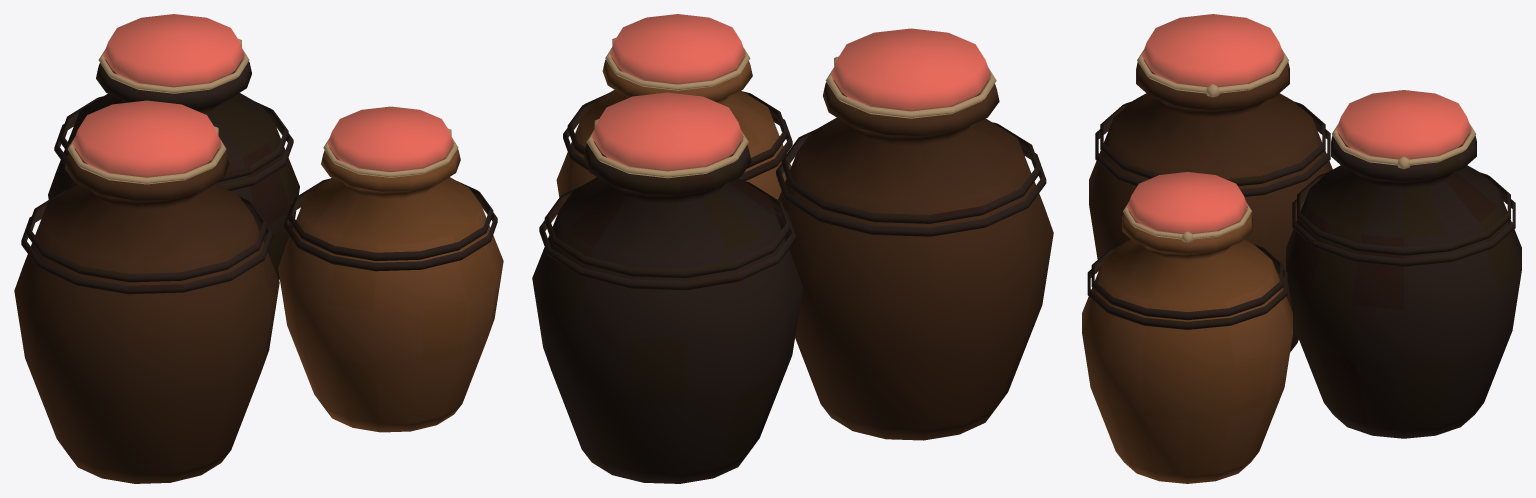
Rendered from prop_tc_vo_ruou.0ab49431f9.glb.
3 renders of one model, left to right at view 1: azimuth 30°, elevation 25°; view 2: azimuth 150°, elevation 25°; view 3: azimuth 270°, elevation 25°, orthographic. The views are drawn at different scales.
Parts seen in each view (by area): view 1: prop_tc_vo_ruou; view 2: prop_tc_vo_ruou; view 3: prop_tc_vo_ruou.
Boxes of the visible parts, left/top/right/bottom form: prop_tc_vo_ruou: left=14, top=14, right=503, bottom=483; prop_tc_vo_ruou: left=532, top=14, right=1053, bottom=483; prop_tc_vo_ruou: left=1082, top=14, right=1521, bottom=483.
Size of what is drawn, in the model's own units: 1.92 by 1.36 by 1.73.
